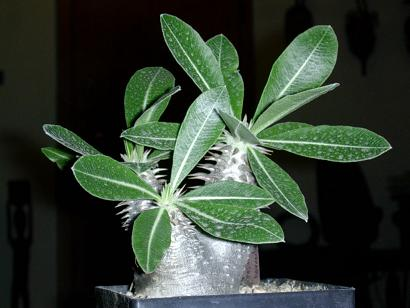Pachypodium rosulatum: (101, 69, 314, 288)
